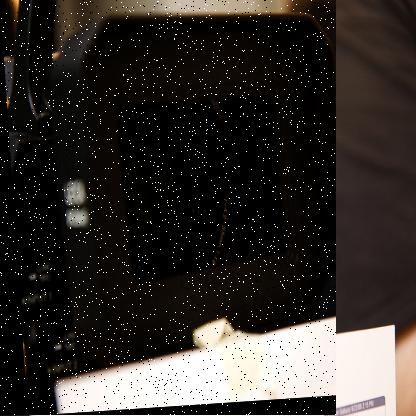Camera: (1, 1, 338, 416)
